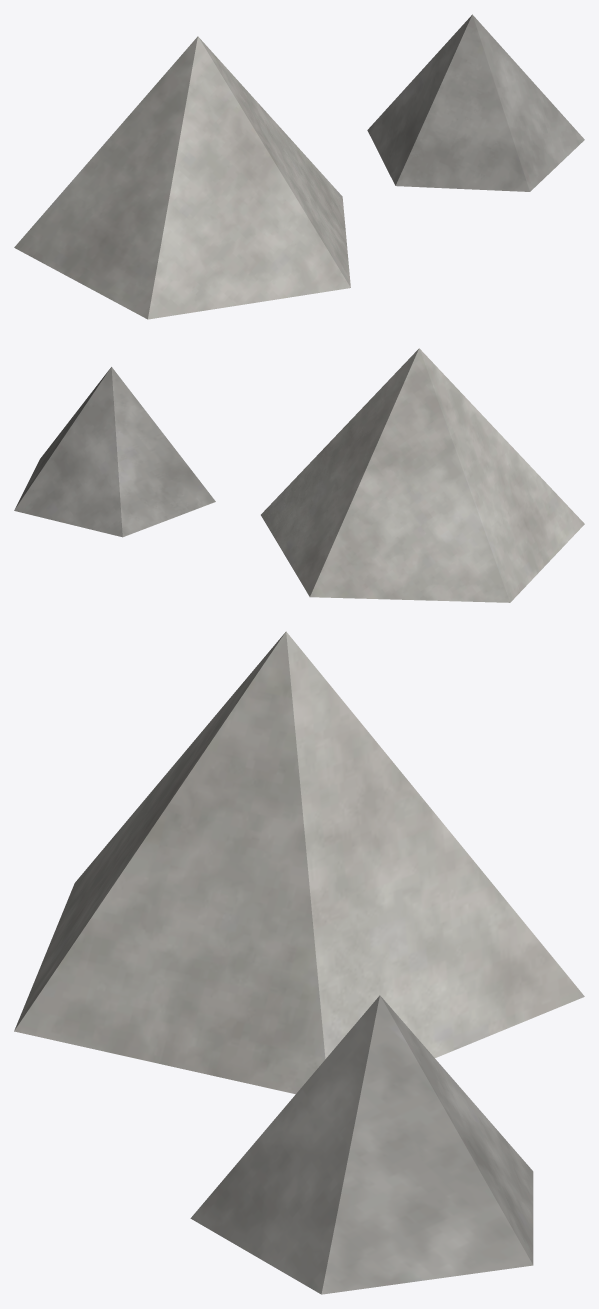
File: res_stone_1.glb
3 views of the same model, one above another, from view 1: azimuth 30°, elevation 25°; view 2: azimuth 150°, elevation 25°; view 3: azimuth 270°, elevation 25° (orthographic). The views are drawn at different scales.
Parts seen in each view (by area): view 1: dilek; view 2: dilek; view 3: dilek.
Part boxes in pixels (x1,y1,x2,y2): dilek: (14,14,584,319); dilek: (14,348,584,602); dilek: (14,631,584,1294).
Size of the model in its own units: 0.5407 by 0.2 by 0.3012.
1 material, 1 textured.
